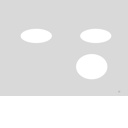round: (73, 52, 108, 80), (19, 25, 55, 45), (78, 26, 113, 45)
